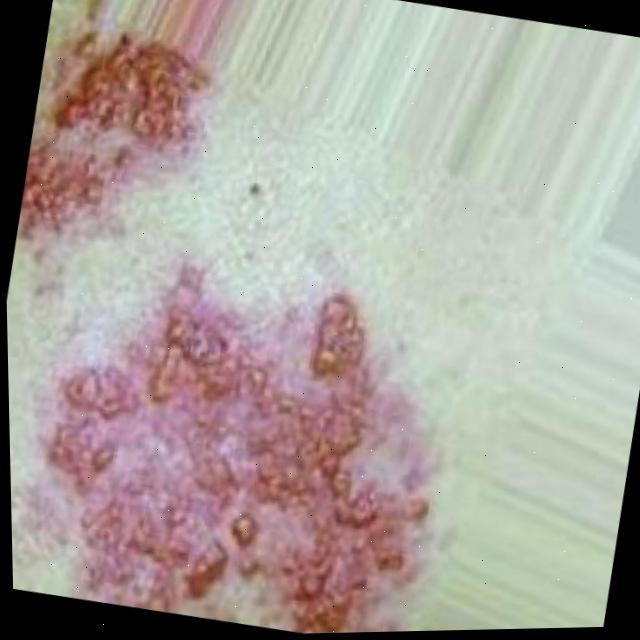Shingles: (16, 254, 466, 640)
